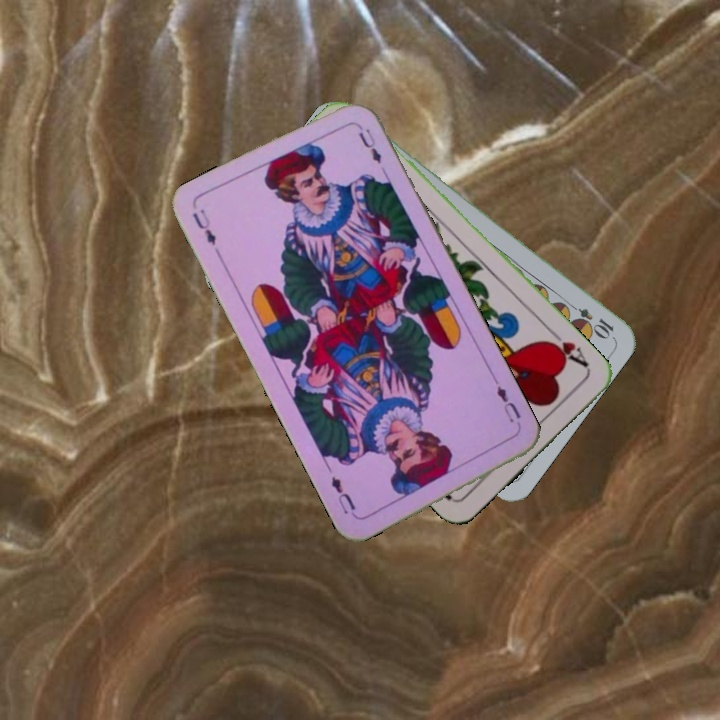E10: (562, 298, 617, 340)
EU: (492, 382, 524, 425), (188, 204, 219, 248)
HA: (541, 326, 592, 373)
